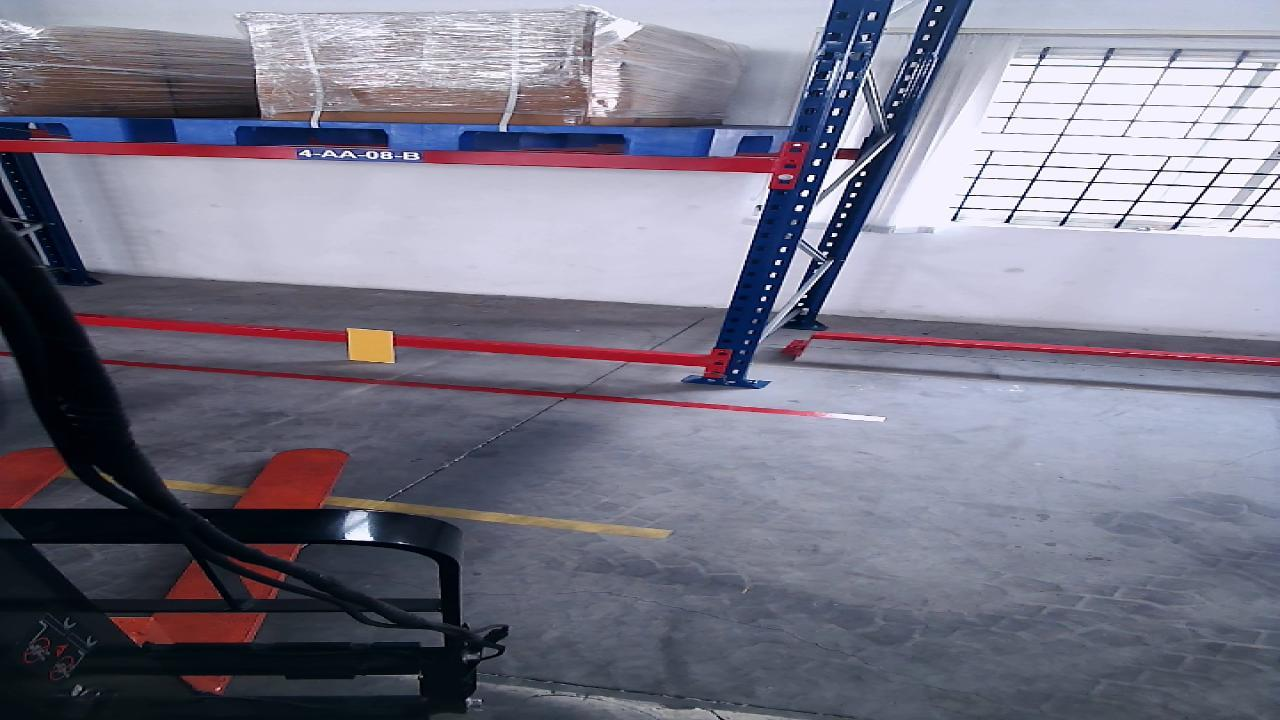h_rack: (74, 317, 703, 366), (0, 140, 774, 172)
orange_strip: (347, 329, 394, 363)
red_line: (101, 358, 885, 422)
small_pallet: (170, 120, 710, 156)
